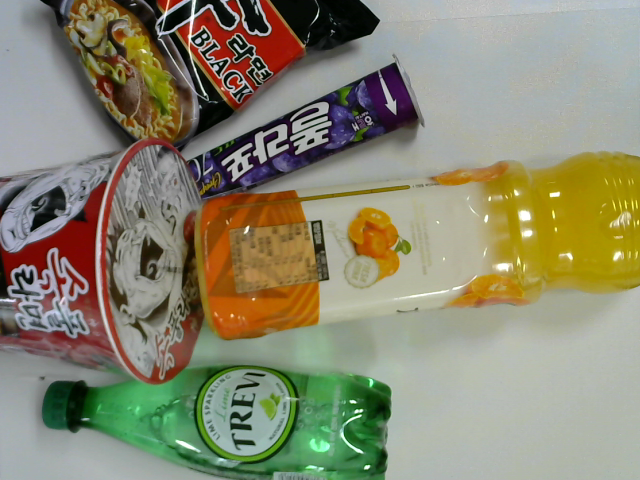Hejangpul: (1, 136, 214, 388)
Jeju_Tangerine_1.5L: (191, 144, 639, 347)
Polapo_Grape: (123, 58, 435, 220)
Sinramen_Black: (45, 1, 392, 161)
Treviraim_500ml: (36, 357, 401, 480)
